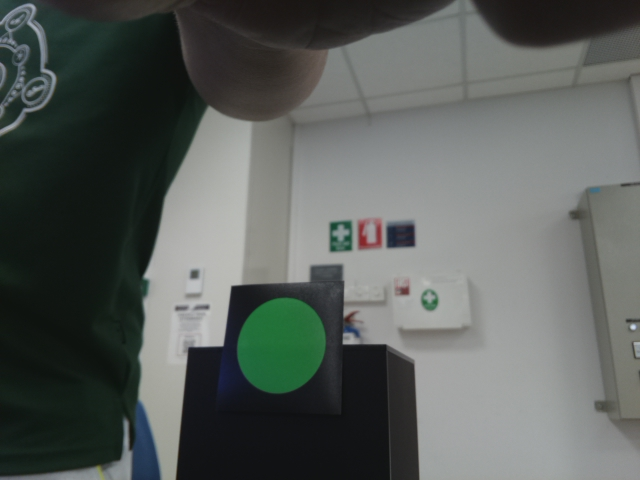go: (235, 293, 333, 407)
